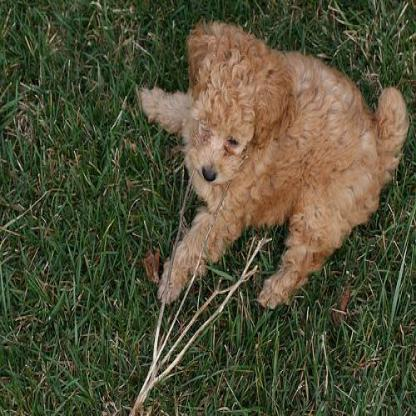miniature_poodle: (136, 16, 409, 304)
